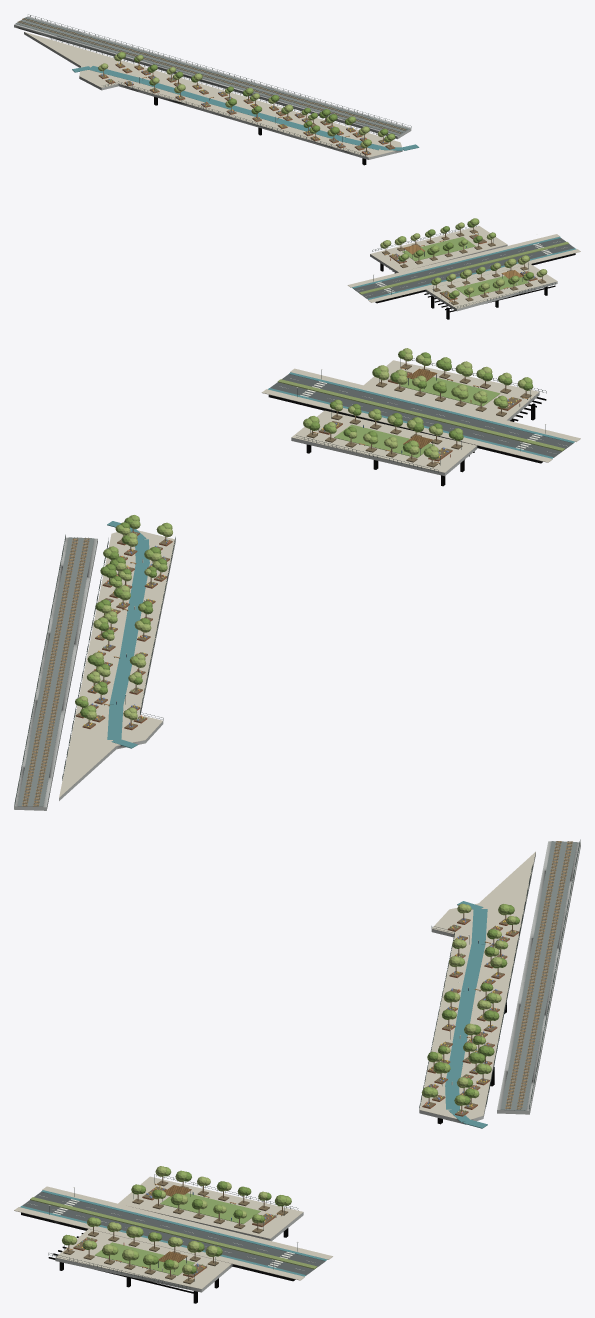
The model's file is i35-stitches.glb.
3 views of the same model, one above another, from view 1: azimuth 30°, elevation 25°; view 2: azimuth 150°, elevation 25°; view 3: azimuth 330°, elevation 25° (orthographic). The views are drawn at different scales.
Visible parts, largest first — view 1: 10 _ 41st Street - traced deck structure__Pale precast concr; view 2: 10 _ 41st Street - traced deck structure__Pale precast concr; view 3: 10 _ 41st Street - traced deck structure__Pale precast concr.
Boxes of the visible parts, <box> form: 10 _ 41st Street - traced deck structure__Pale precast concr: <box>14,14,580,319</box>; 10 _ 41st Street - traced deck structure__Pale precast concr: <box>14,348,580,810</box>; 10 _ 41st Street - traced deck structure__Pale precast concr: <box>14,839,580,1303</box>.
Bounding box in the file's own units: 141 × 19.37 × 474.
